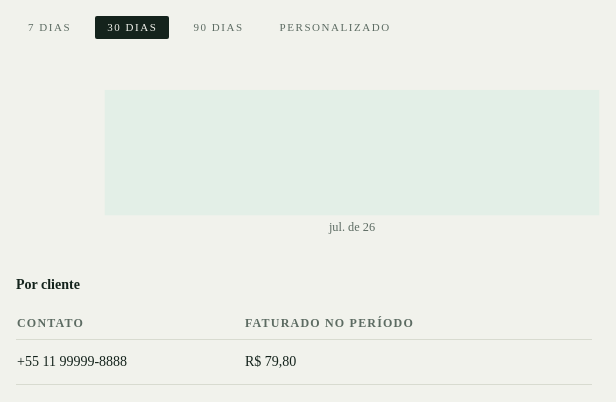
Test: RevenueReport › mostra erro em vez de dados obsoletos quando a requisição falha (422)
Expected: the text "R$ 79,80" is shown, left=244, top=339, right=592, bottom=384
Click the button "90 dias" at (218, 28), box left=181, top=16, right=256, bottom=39
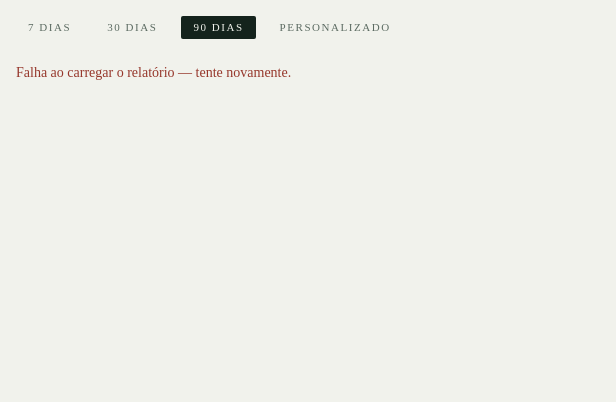
Now the text "Falha ao carregar o relatório — tente novamente." is shown, box left=16, top=65, right=291, bottom=80
Now the text "79,80" is gone
